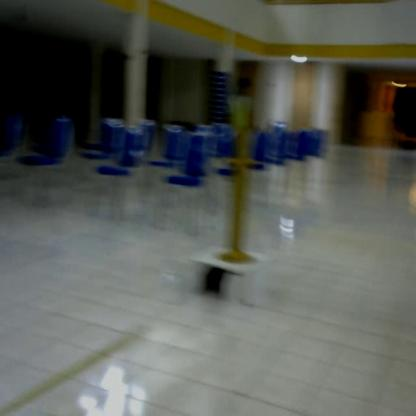pole: (212, 129, 265, 269)
